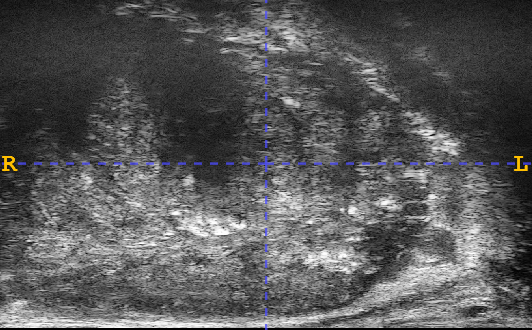calcifications: (152, 165, 257, 254), (265, 217, 378, 289), (336, 177, 452, 234), (64, 161, 145, 232)
